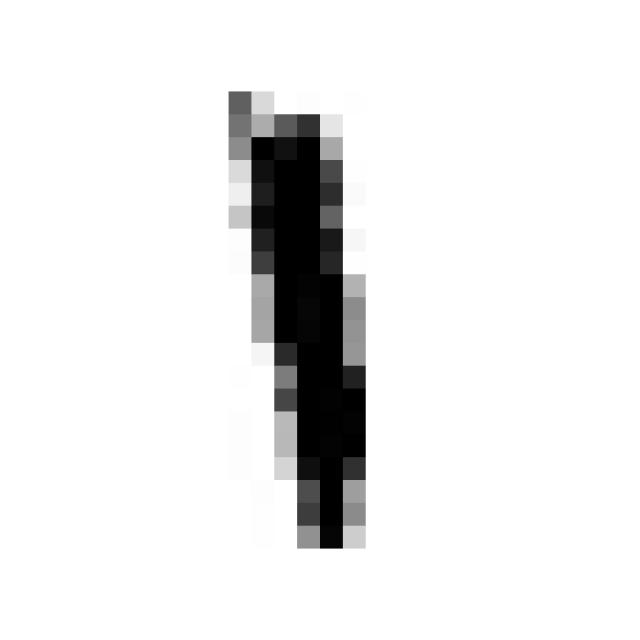1 -one-: (212, 71, 380, 558)
